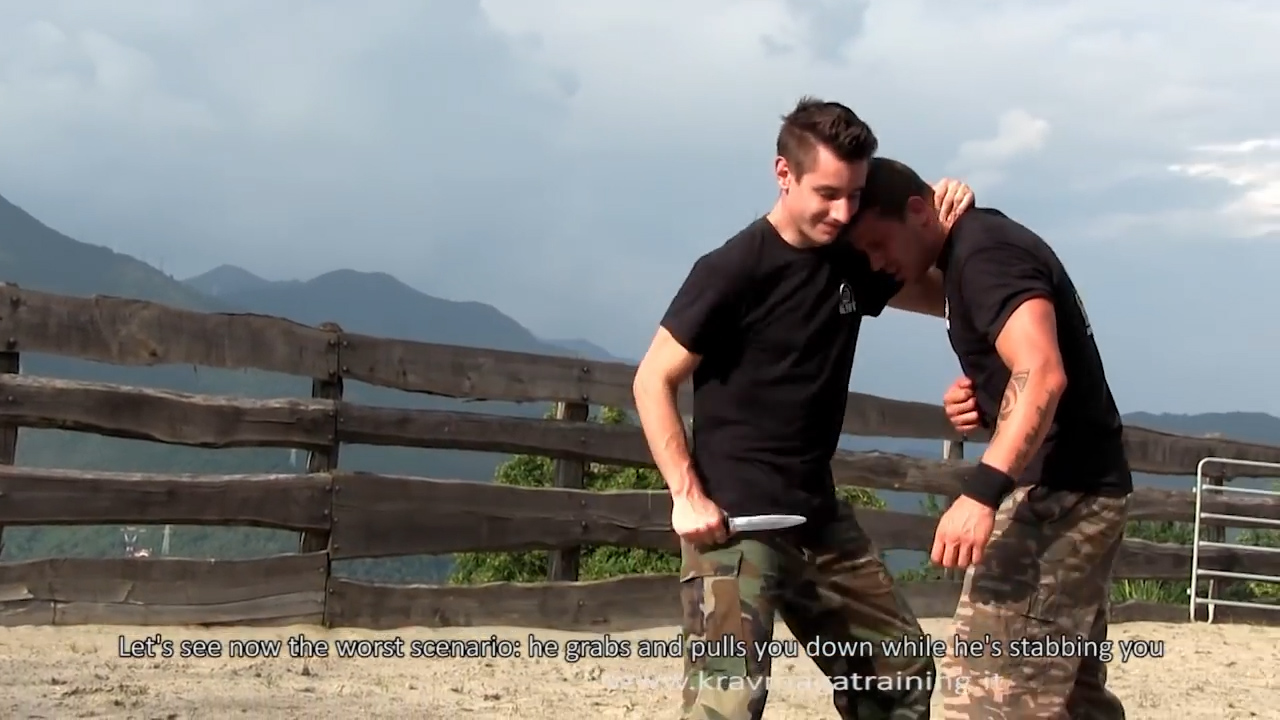knife: (666, 502, 818, 561)
